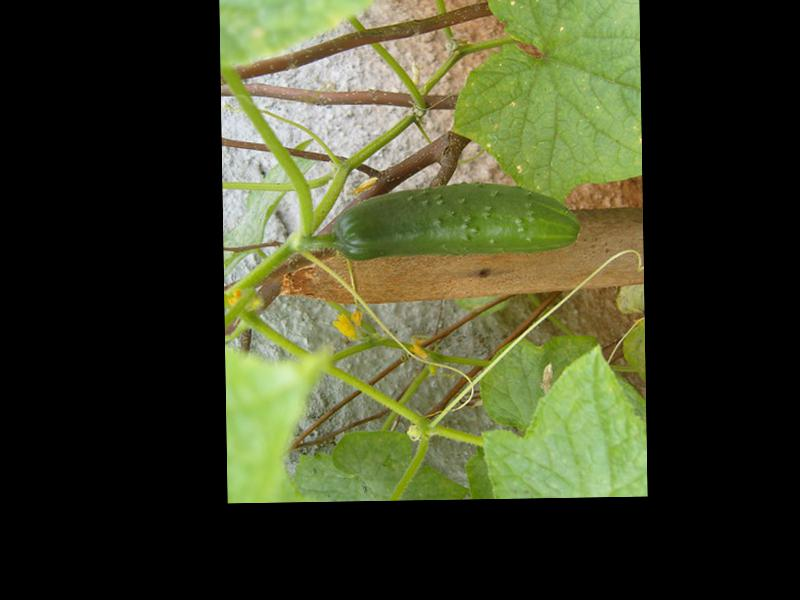Cucumber: (331, 180, 581, 262)
